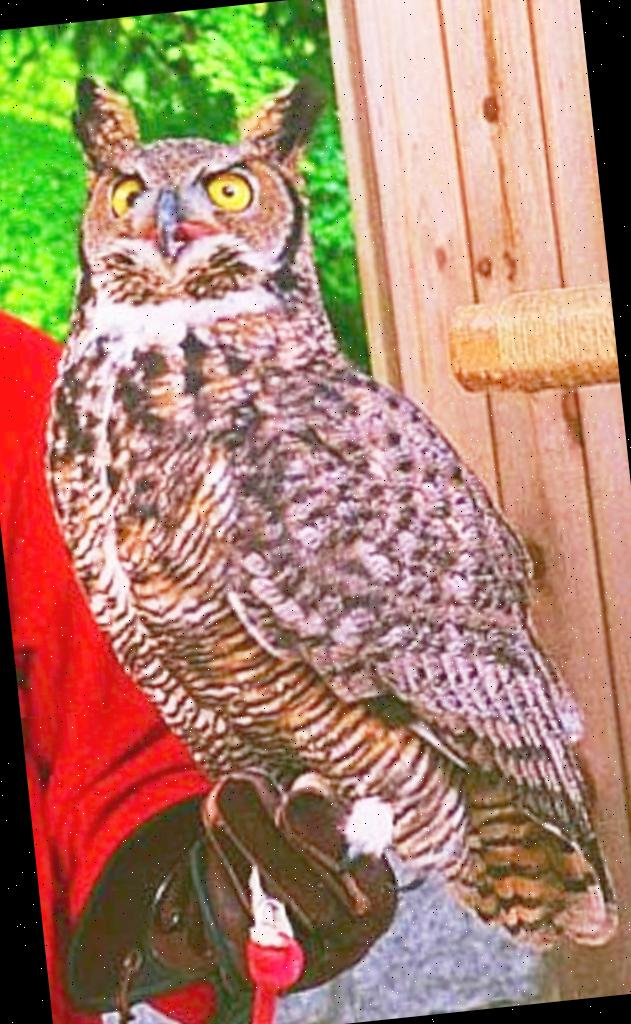Owl: (4, 26, 628, 1002)
